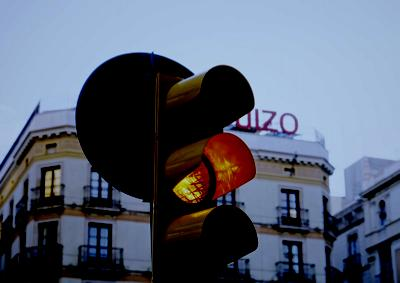International Road Signal Light: (149, 60, 265, 277)
